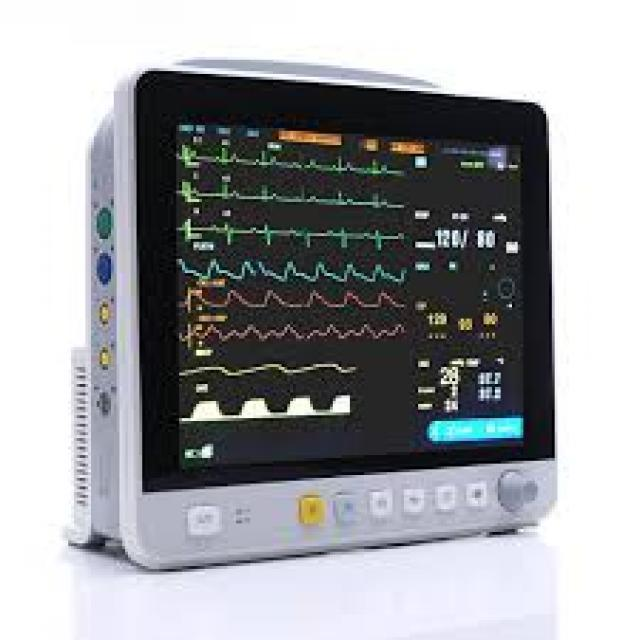cardiac_monitor: (110, 63, 575, 549)
